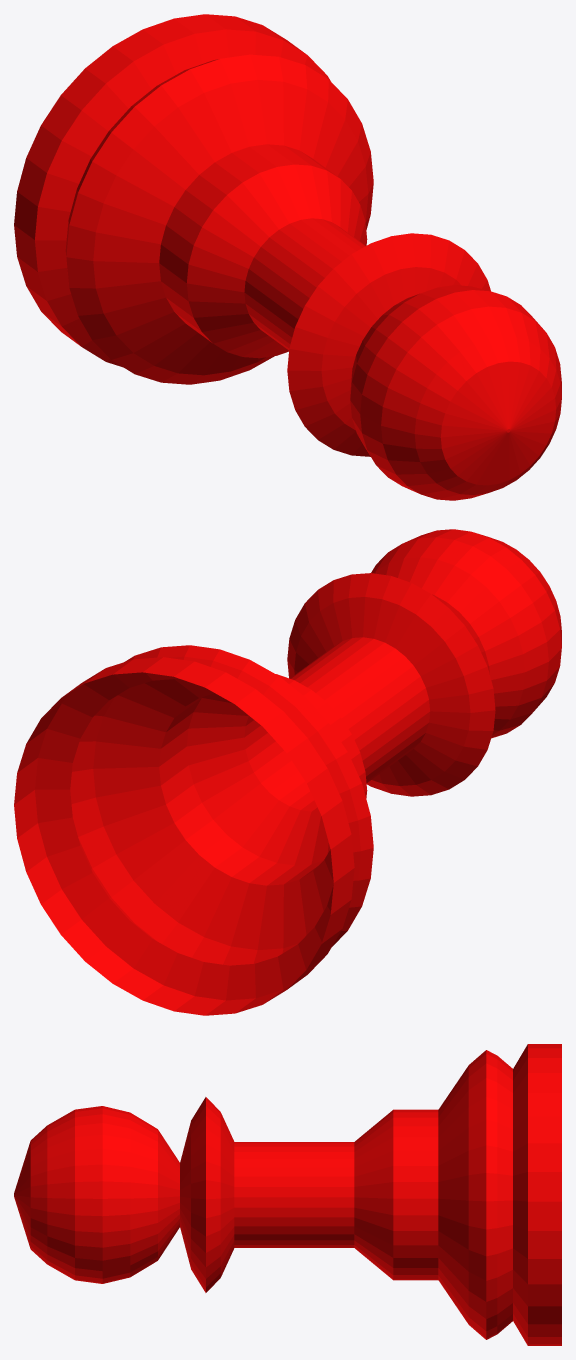
The model's file is peaoP.obj.
The picture shows the model from 3 angles, top to bottom: view 1: azimuth 30°, elevation 25°; view 2: azimuth 150°, elevation 25°; view 3: azimuth 270°, elevation 25°; orthographic projection. The views are drawn at different scales.
Parts seen in each view (by area): view 1: Circle; view 2: Circle; view 3: Circle.
Part boxes in pixels (x1,y1,x2,y2): Circle: (14,14,561,500); Circle: (14,529,561,1015); Circle: (14,1044,561,1345).
Bounding box in the file's own units: 1.04 × 1.04 × 1.89.
